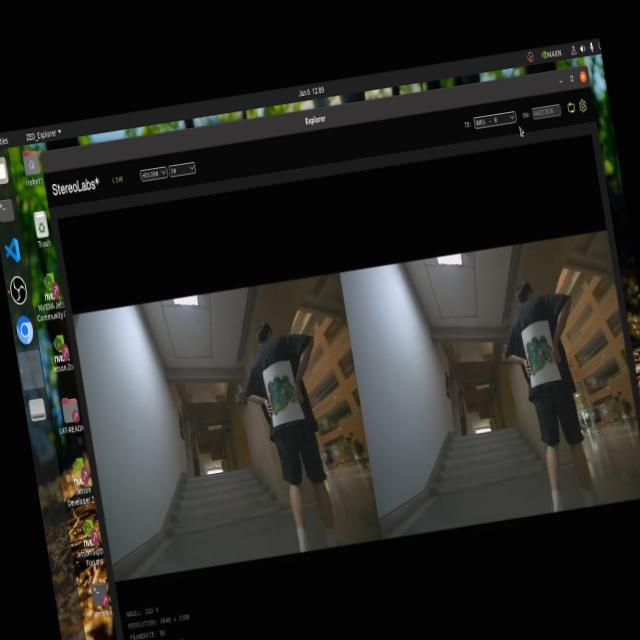green: (264, 371, 294, 416), (524, 328, 550, 371)
